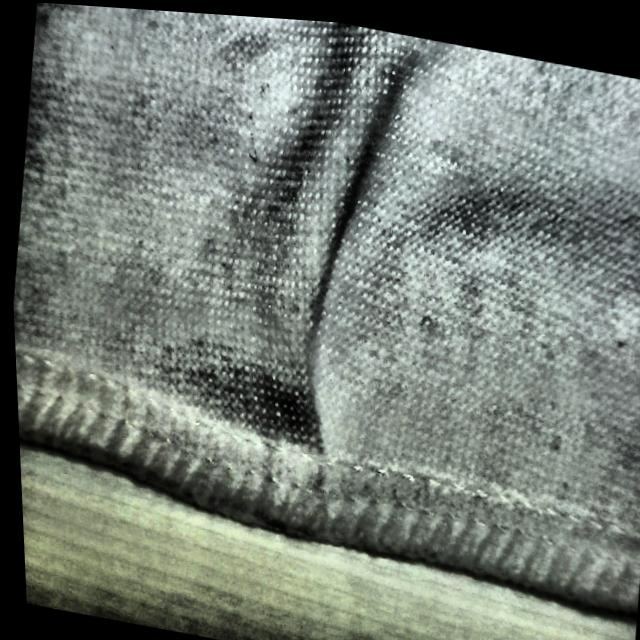seam: (196, 159, 404, 549)
